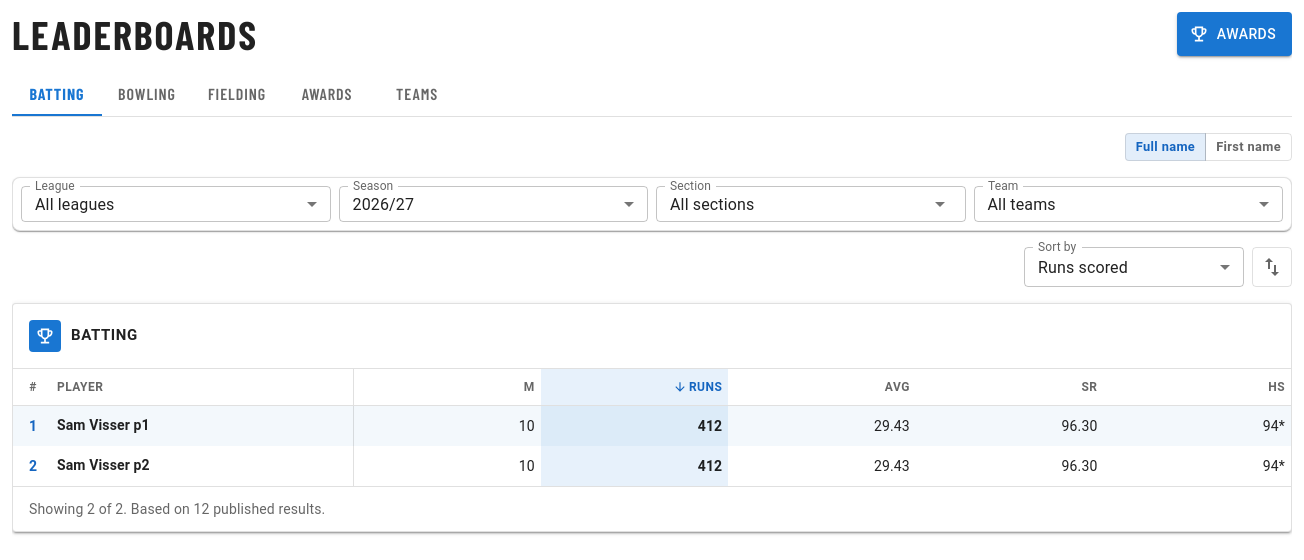
Test case: LeaderboardsPage › tabs › the header Awards button and the Awards tab open the Awards view
Click the button "Awards" at {"x": 1234, "y": 34}, box [1177,12,1292,56]
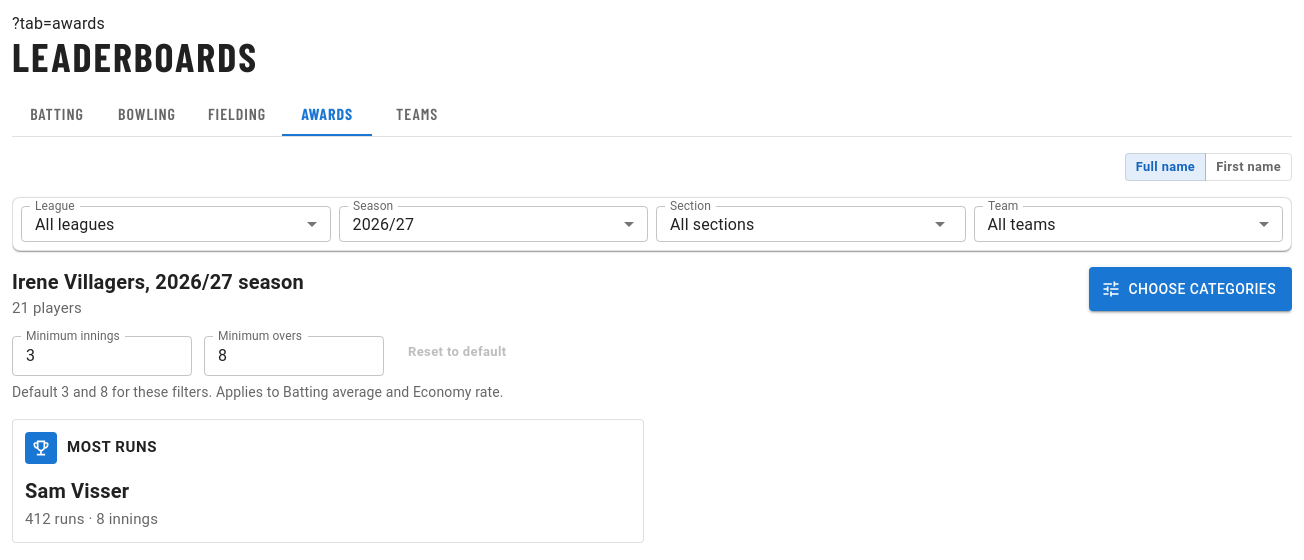
Expected: the heading "Irene Villagers, 2026/27 season" is shown, [12,267,304,297]
